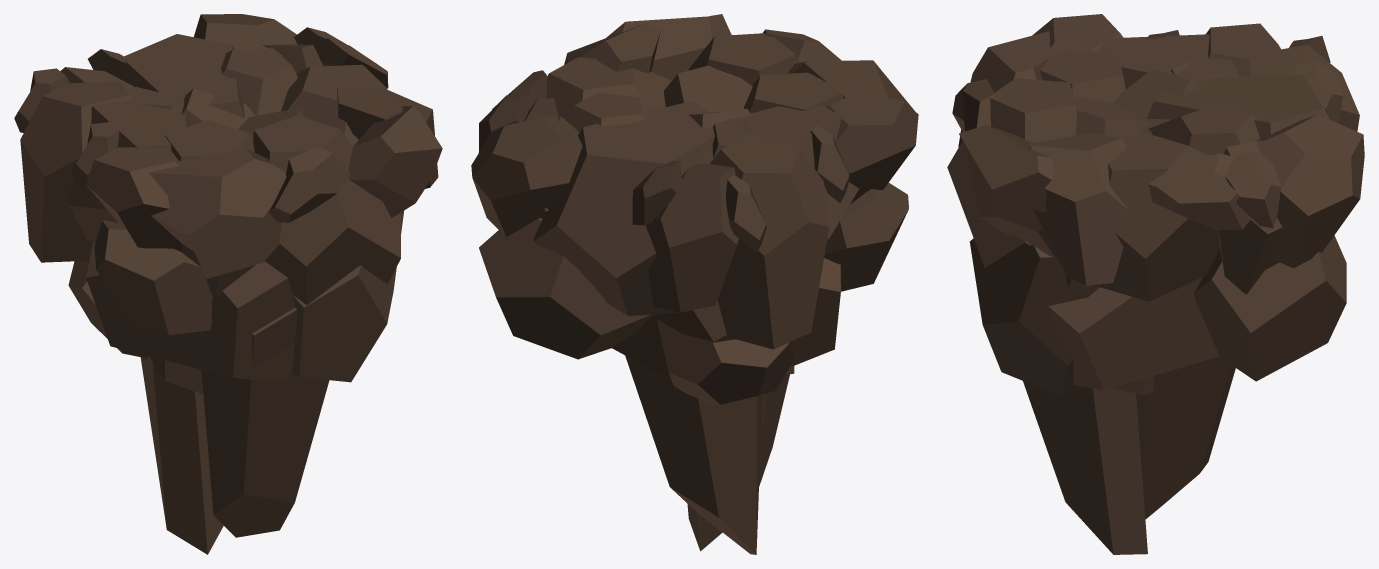
The model's file is Rock_Floor3_Chunk.fbx.
3 renders of one model, left to right at view 1: azimuth 30°, elevation 25°; view 2: azimuth 150°, elevation 25°; view 3: azimuth 270°, elevation 25°, orthographic. The views are drawn at different scales.
Parts seen in each view (by area): view 1: Rock_Floor3_Chunk; view 2: Rock_Floor3_Chunk; view 3: Rock_Floor3_Chunk.
Boxes of the visible parts, x1=… form: Rock_Floor3_Chunk: x1=14, y1=14, x2=442, y2=554; Rock_Floor3_Chunk: x1=471, y1=14, x2=918, y2=554; Rock_Floor3_Chunk: x1=947, y1=14, x2=1364, y2=554.
Bounding box in the file's own units: 683 × 843 × 683.
